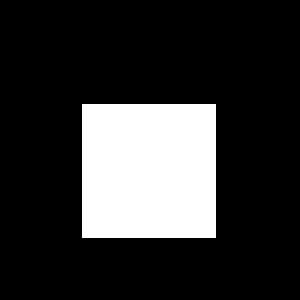circle: (82, 104, 216, 238)
